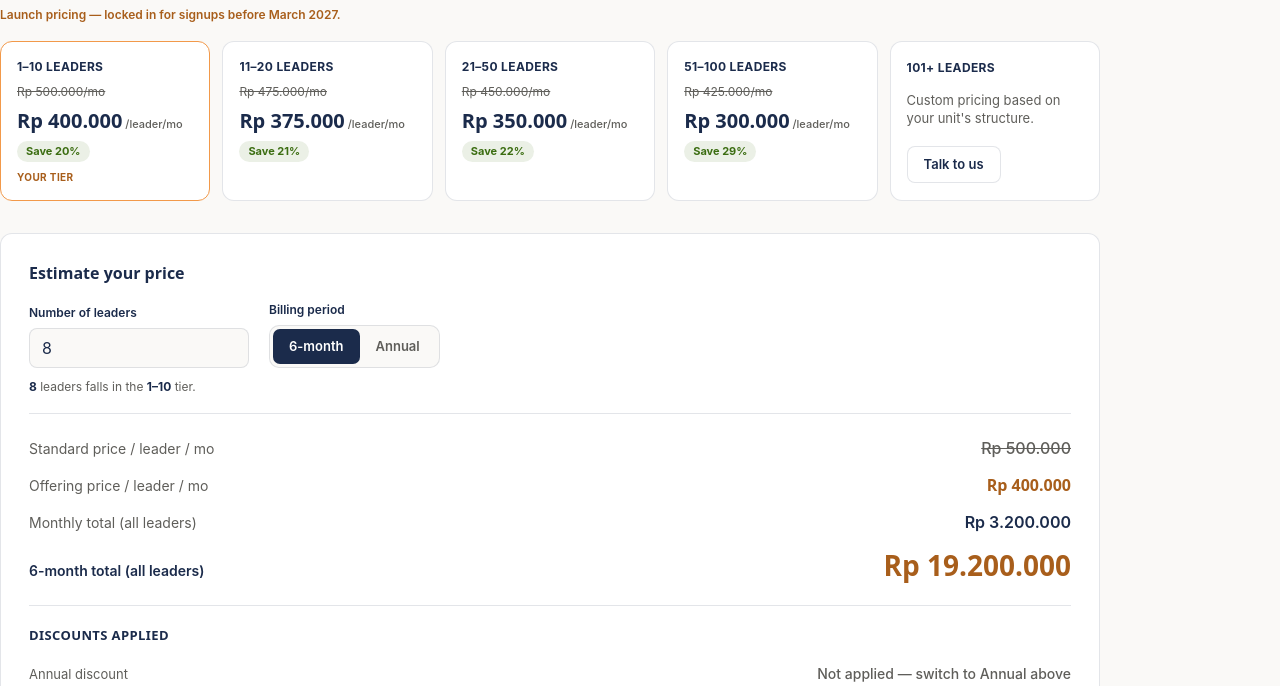
the quote tool (P13.2-T2) › AC-4: the screen, verbatim › on Annual shows the offer after discount, the annual total and the annual discount
Expected: the heading "Estimate your price" is shown, [29,262,185,284]
Click the button "Annual" at (398, 346), box [360,329,436,364]
(page scrolled)
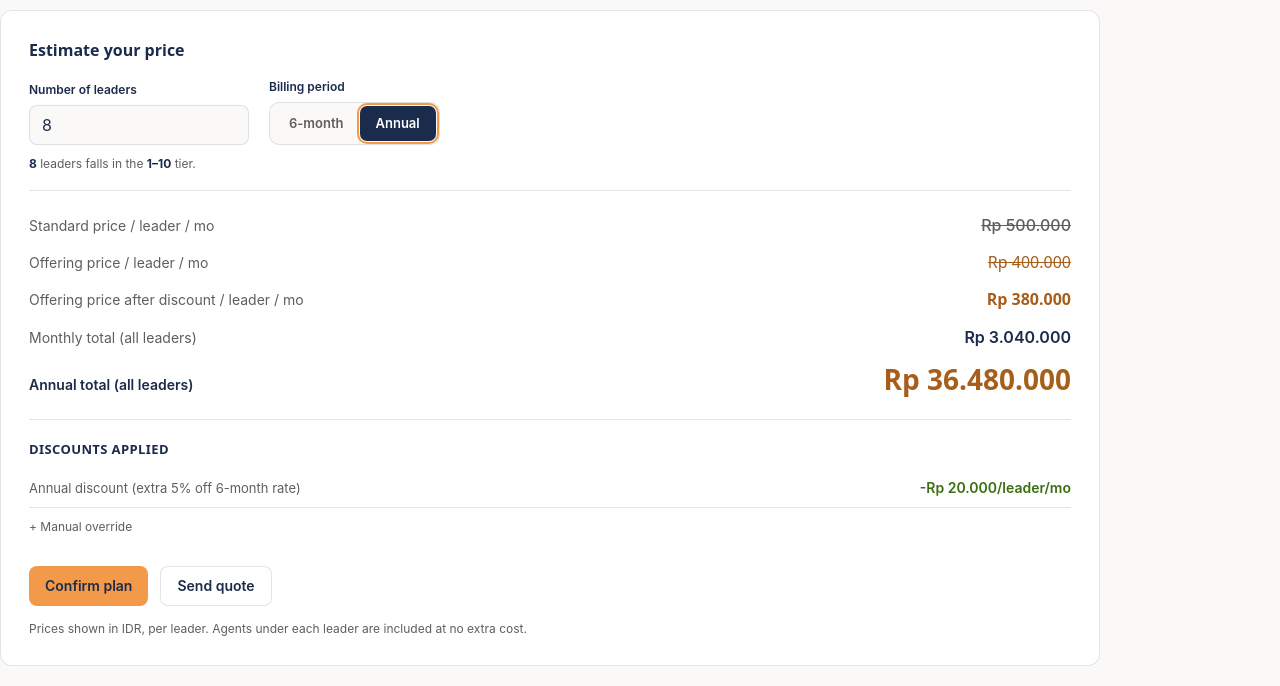
Expected: the text "Rp 400.000" is shown, [988,251,1071,273]
Now the text "Annual discount (extra 5% off 6-month rate)" is shown, box [29,480,301,496]
Now the text "-Rp 20.000/leader/mo" is shown, box [920,478,1071,498]
